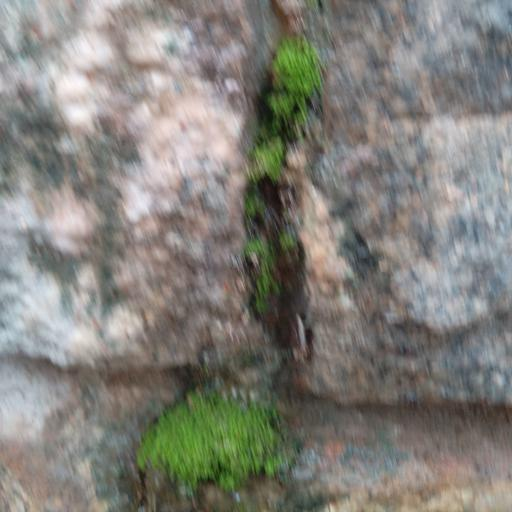algae: (120, 23, 369, 512)
